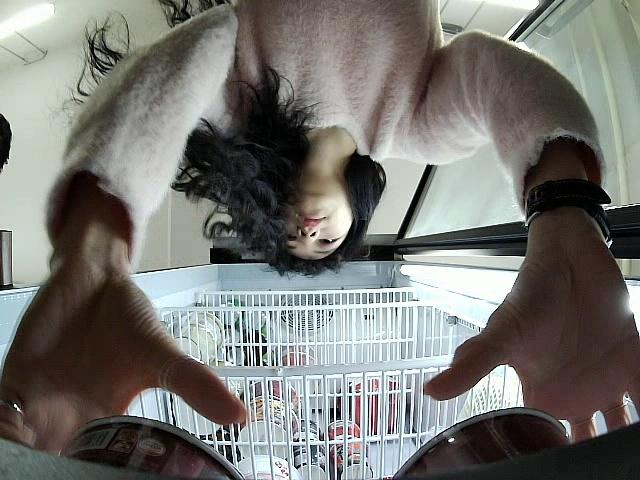00_hand: (1, 266, 251, 455), (426, 237, 640, 439)
